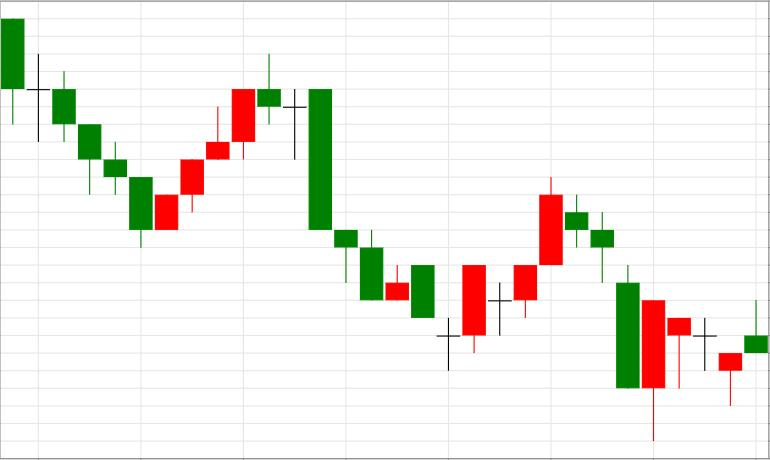morning_star_rise: (309, 88, 486, 371)
